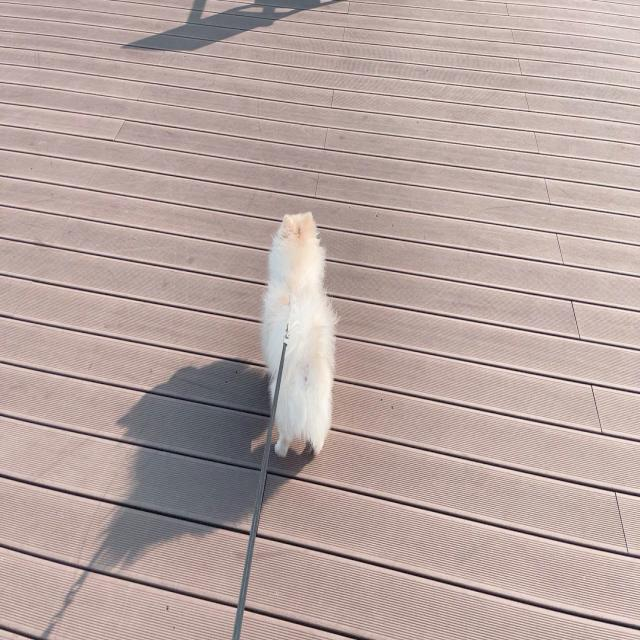Dog: (260, 210, 340, 460)
